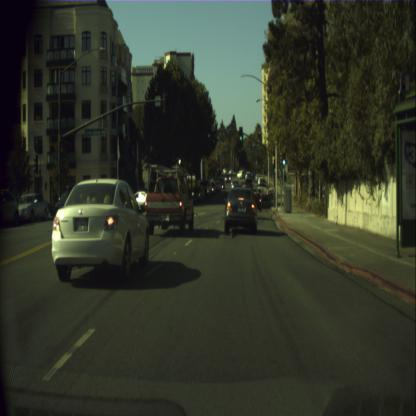Green: (239, 127, 242, 142), (282, 154, 285, 166), (207, 128, 210, 138), (274, 160, 276, 172), (238, 147, 240, 152), (262, 163, 264, 167), (256, 162, 258, 166)
